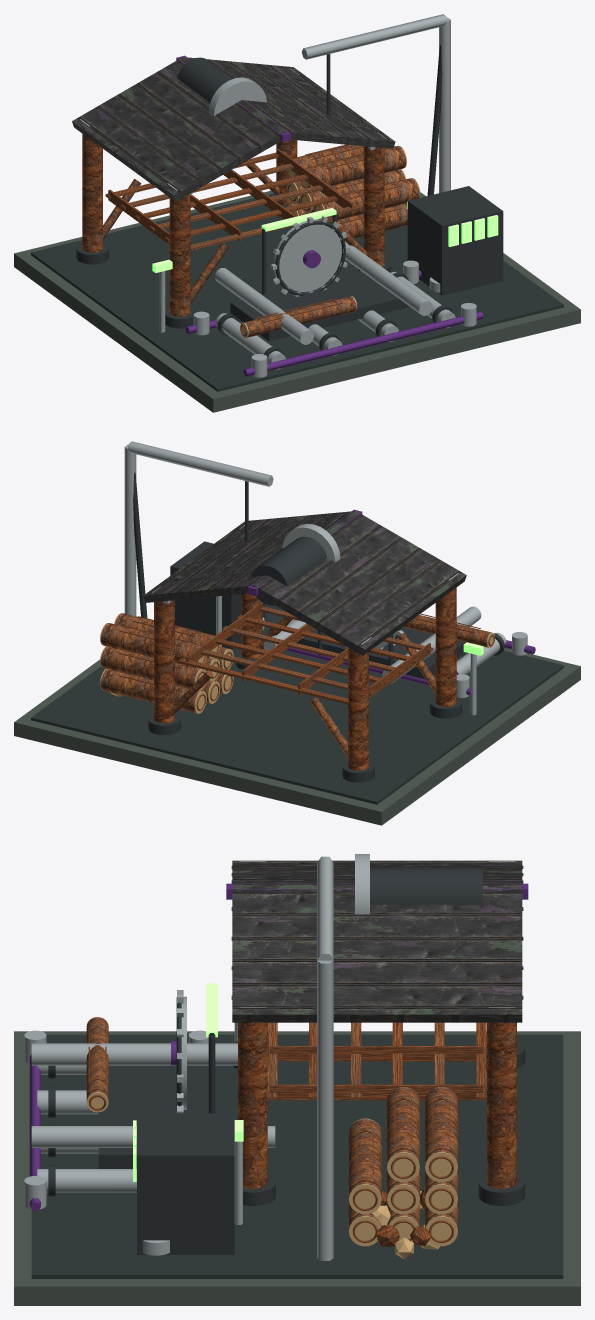
The model's file is timberline_v3_l03.glb.
The picture shows the model from 3 angles, top to bottom: view 1: azimuth 30°, elevation 25°; view 2: azimuth 150°, elevation 25°; view 3: azimuth 270°, elevation 25°; orthographic projection. The views are drawn at different scales.
Visible parts, largest first — view 1: timberline_v3_l03, stone_yard_base, hydraulic_sorter, saw_carriage, circular_saw_blade, saw_safety_light; view 2: timberline_v3_l03, stone_yard_base, hydraulic_sorter, saw_carriage; view 3: timberline_v3_l03, stone_yard_base, hydraulic_sorter, saw_carriage, saw_safety_light, circular_saw_blade.
Part boxes in pixels (x1=…): timberline_v3_l03: x1=31, y1=14, x2=563, y2=391; stone_yard_base: x1=14, y1=190, x2=580, y2=412; hydraulic_sorter: x1=407, y1=186, x2=503, y2=295; saw_carriage: x1=230, y1=270, x2=409, y2=340; circular_saw_blade: x1=273, y1=219, x2=341, y2=291; saw_safety_light: x1=261, y1=208, x2=336, y2=231; timberline_v3_l03: x1=31, y1=441, x2=563, y2=804; stone_yard_base: x1=14, y1=648, x2=580, y2=825; hydraulic_sorter: x1=170, y1=541, x2=265, y2=649; saw_carriage: x1=296, y1=627, x2=465, y2=679; timberline_v3_l03: x1=24, y1=854, x2=563, y2=1278; stone_yard_base: x1=14, y1=1031, x2=580, y2=1305; hydraulic_sorter: x1=137, y1=1113, x2=234, y2=1254; saw_carriage: x1=98, y1=1065, x2=208, y2=1168; saw_safety_light: x1=206, y1=983, x2=217, y2=1037; circular_saw_blade: x1=181, y1=996, x2=186, y2=1109.
Size of the model in its own units: 6.5 by 3.96 by 6.1.
11 materials, 3 textured.
